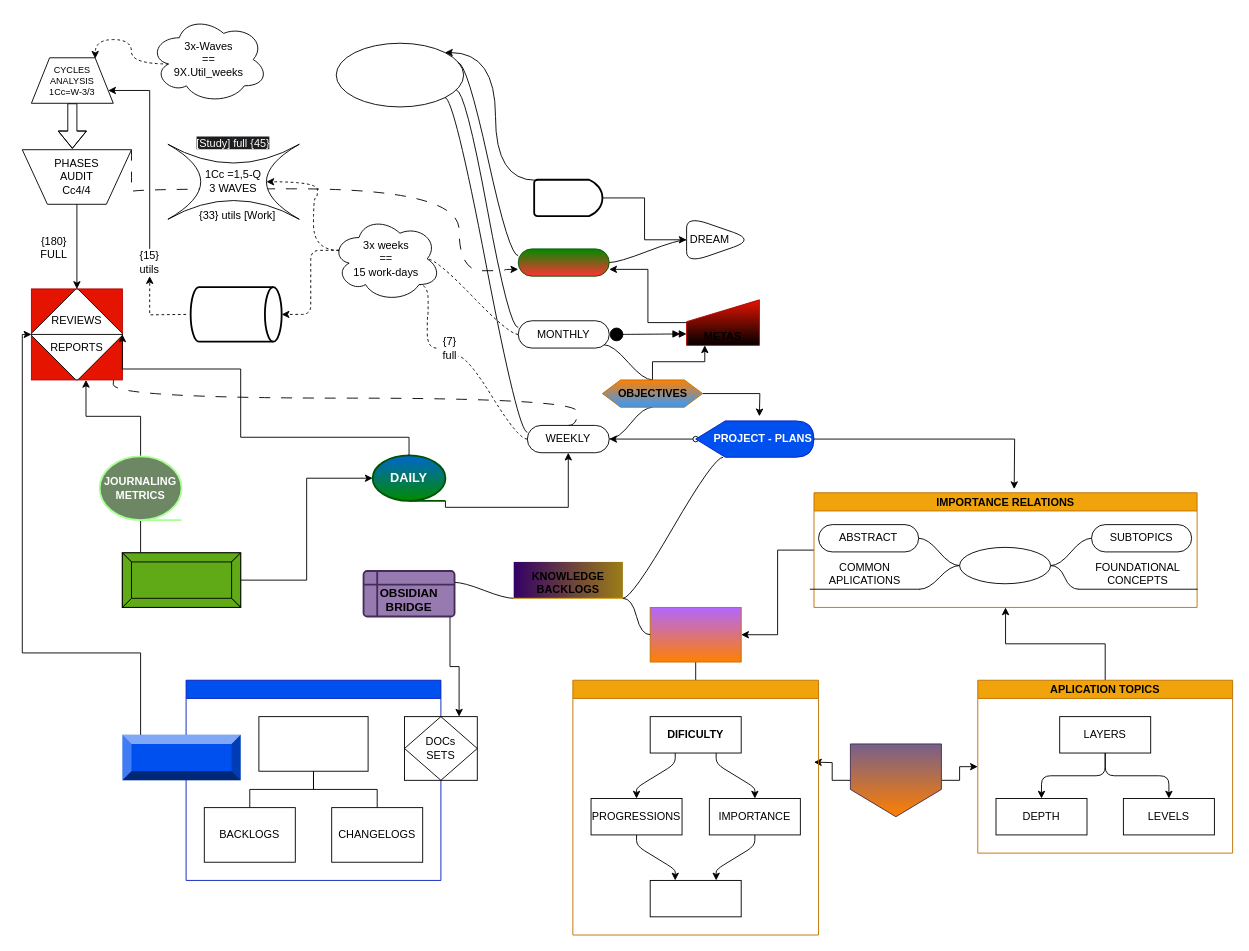
Image size: 1249x951. Some labels were removed from this diagram. The shapes that lost their labels are listed below. From the top down, each one's box as (x1, y1, x2, y2) in pixels, then its label:
(335, 42, 464, 107): IKIGAI PLANING
(533, 178, 603, 217): ANUAL
(517, 248, 609, 276): QUARTER
(189, 286, 282, 342): WAVES
(121, 552, 241, 607): TIMING HABITS
(959, 546, 1051, 584): MENTAL MODELS
(649, 607, 741, 662): STUDY OPS
(121, 734, 241, 780): TASK WARRIOR
(258, 716, 368, 771): ROADMAP
(185, 679, 441, 880): PROJECT - MODEL
(849, 743, 941, 817): LEARNING LOGGING
(572, 679, 819, 935): PRIORIZATION CONCEPTS
(649, 880, 741, 917): PAST EXPERIENCES
